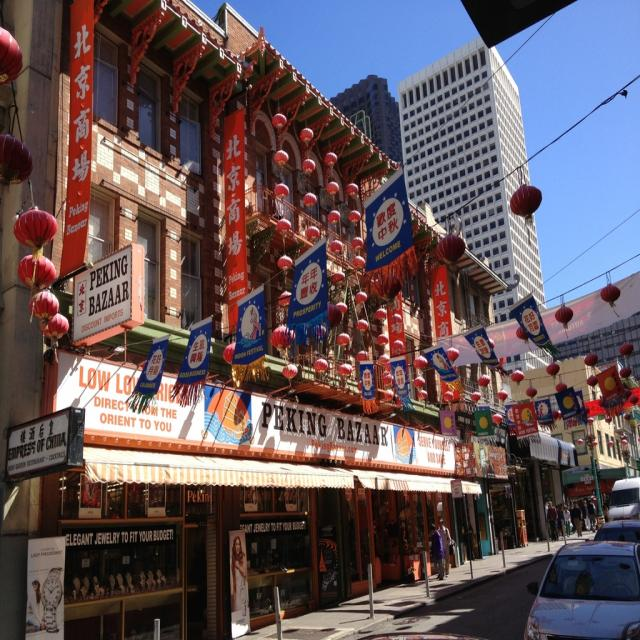other: (524, 539, 638, 639), (593, 504, 639, 549)
